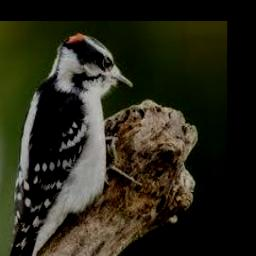Woodpecker: (0, 32, 144, 256)
